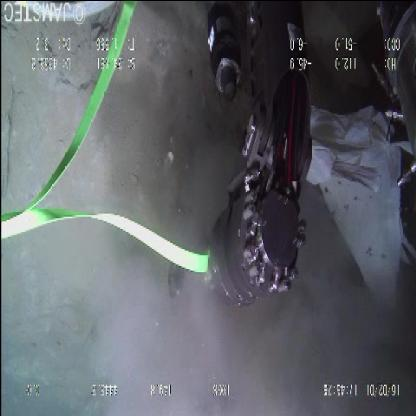Rov: (184, 6, 314, 318)
Rác: (303, 102, 415, 309)
